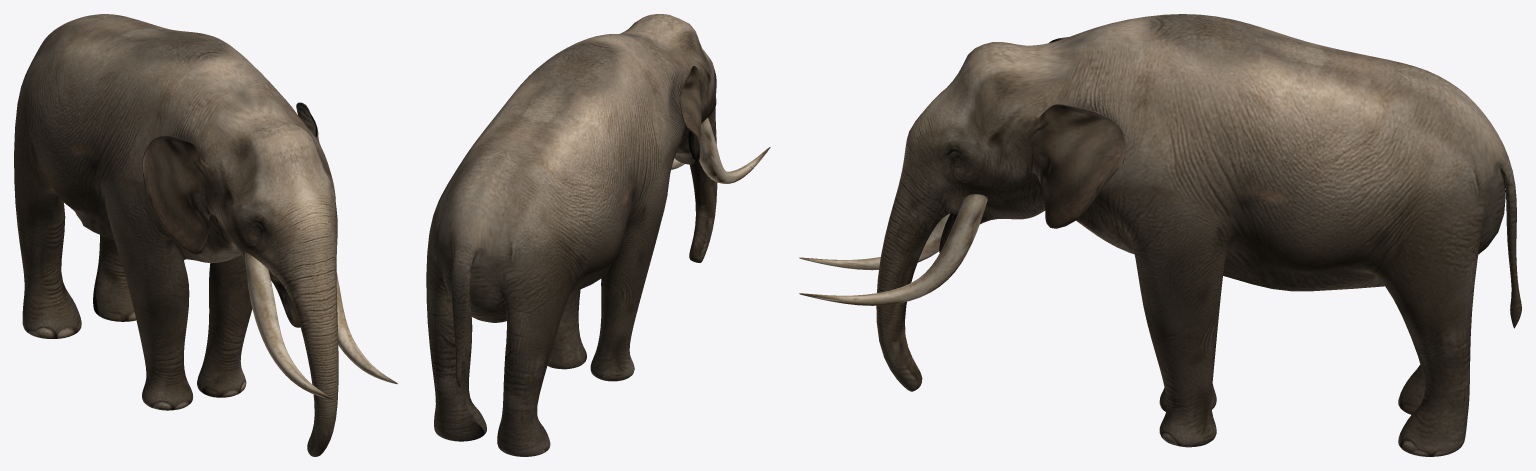
The model's file is 08_Elephas.fbx.
The picture shows the model from 3 angles, left to right: view 1: azimuth 30°, elevation 25°; view 2: azimuth 150°, elevation 25°; view 3: azimuth 270°, elevation 25°; orthographic projection. The views are drawn at different scales.
Visible parts, largest first — view 1: Cube, Cube.001; view 2: Cube, Cube.001; view 3: Cube, Cube.001.
Part boxes in pixels (x1=…): Cube: x1=14, y1=14, x2=338, y2=456; Cube.001: x1=245, y1=252, x2=397, y2=399; Cube: x1=426, y1=14, x2=717, y2=456; Cube.001: x1=671, y1=117, x2=770, y2=183; Cube: x1=876, y1=14, x2=1521, y2=456; Cube.001: x1=799, y1=194, x2=987, y2=305.
Bounding box in the file's own units: 446 × 882 × 1441.
Materials: 1 (1 with a texture image).
